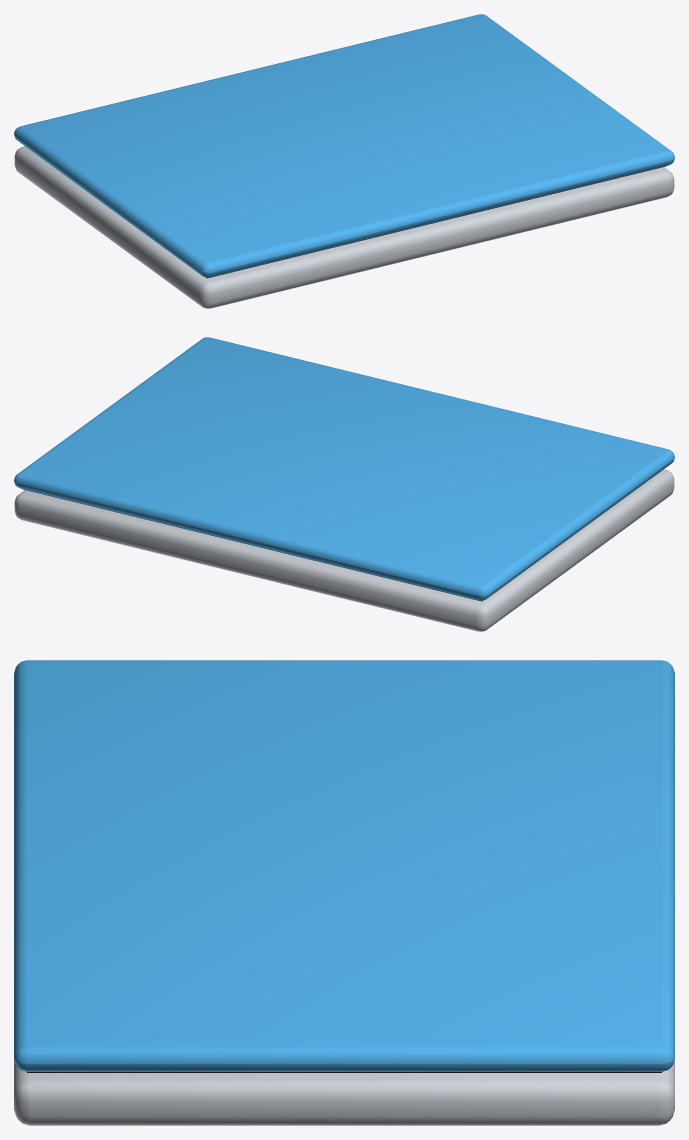
The model's file is notebook_azul.glb.
The picture shows the model from 3 angles, top to bottom: view 1: azimuth 30°, elevation 25°; view 2: azimuth 150°, elevation 25°; view 3: azimuth 270°, elevation 25°; orthographic projection. The views are drawn at different scales.
Visible parts, largest first — view 1: tampa, notebook_azul; view 2: tampa, notebook_azul; view 3: tampa, notebook_azul.
Boxes of the visible parts, bbox=[...] form: tampa: bbox=[14, 14, 674, 278]; notebook_azul: bbox=[14, 146, 674, 308]; tampa: bbox=[14, 337, 674, 601]; notebook_azul: bbox=[14, 469, 674, 631]; tampa: bbox=[14, 660, 674, 1072]; notebook_azul: bbox=[14, 1059, 674, 1125].
Bounding box in the file's own units: 0.34 × 0.032 × 0.24.
1 material, 1 textured.
